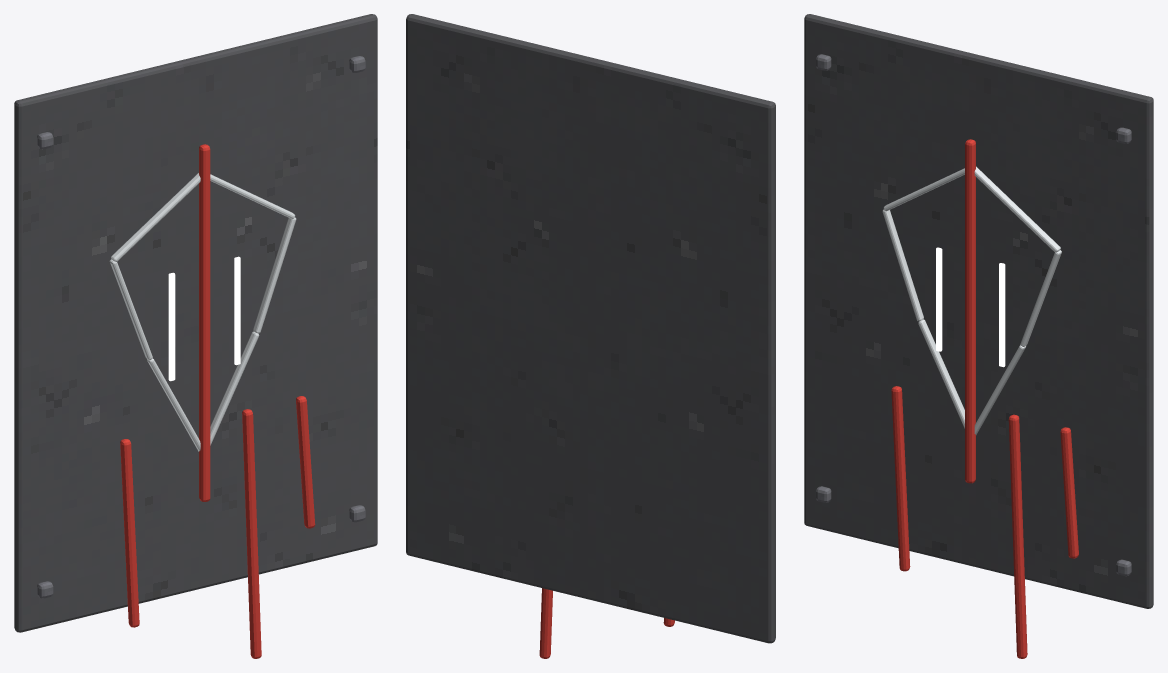
The model's file is cult_etched_panel.glb.
The picture shows the model from 3 angles, left to right: view 1: azimuth 30°, elevation 25°; view 2: azimuth 150°, elevation 25°; view 3: azimuth 330°, elevation 25°; orthographic projection. The views are drawn at different scales.
Visible parts, largest first — view 1: CULT_ETCHED_PANEL__Scored_Cladding, CULT_ETCHED_PANEL__Etched_Sigil_Axis, CULT_ETCHED_PANEL__Red_Seep_1, CULT_ETCHED_PANEL__Red_Seep_0, CULT_ETCHED_PANEL__Red_Seep_2, CULT_ETCHED_PANEL__Etched_Sigil_Cut_2, CULT_ETCHED_PANEL__Etched_Sigil_Cut_0, CULT_ETCHED_PANEL__Etched_Sigil_Cut_3, CULT_ETCHED_PANEL__Etched_Sigil_Prong_0, CULT_ETCHED_PANEL__Etched_Sigil_Cut_5, CULT_ETCHED_PANEL__Etched_Sigil_Prong_1, CULT_ETCHED_PANEL__Etched_Sigil_Cut_4 (+1 smaller); view 2: CULT_ETCHED_PANEL__Scored_Cladding, CULT_ETCHED_PANEL__Red_Seep_1; view 3: CULT_ETCHED_PANEL__Scored_Cladding, CULT_ETCHED_PANEL__Etched_Sigil_Axis, CULT_ETCHED_PANEL__Red_Seep_1, CULT_ETCHED_PANEL__Red_Seep_0, CULT_ETCHED_PANEL__Red_Seep_2, CULT_ETCHED_PANEL__Etched_Sigil_Cut_1, CULT_ETCHED_PANEL__Etched_Sigil_Cut_5, CULT_ETCHED_PANEL__Etched_Sigil_Cut_4, CULT_ETCHED_PANEL__Etched_Sigil_Cut_2, CULT_ETCHED_PANEL__Etched_Sigil_Prong_0, CULT_ETCHED_PANEL__Etched_Sigil_Prong_1, CULT_ETCHED_PANEL__Etched_Sigil_Cut_3 (+1 smaller).
Boxes of the visible parts, x1,y1,x2,y2 form: CULT_ETCHED_PANEL__Scored_Cladding: [14, 14, 377, 632]; CULT_ETCHED_PANEL__Etched_Sigil_Axis: [199, 144, 210, 501]; CULT_ETCHED_PANEL__Red_Seep_1: [242, 409, 261, 658]; CULT_ETCHED_PANEL__Red_Seep_0: [120, 439, 139, 627]; CULT_ETCHED_PANEL__Red_Seep_2: [296, 396, 315, 528]; CULT_ETCHED_PANEL__Etched_Sigil_Cut_2: [253, 217, 296, 333]; CULT_ETCHED_PANEL__Etched_Sigil_Cut_0: [111, 173, 200, 261]; CULT_ETCHED_PANEL__Etched_Sigil_Cut_3: [210, 331, 259, 445]; CULT_ETCHED_PANEL__Etched_Sigil_Prong_0: [168, 272, 175, 381]; CULT_ETCHED_PANEL__Etched_Sigil_Cut_5: [109, 259, 152, 359]; CULT_ETCHED_PANEL__Etched_Sigil_Prong_1: [234, 256, 240, 365]; CULT_ETCHED_PANEL__Etched_Sigil_Cut_4: [147, 358, 200, 451]; CULT_ETCHED_PANEL__Scored_Cladding: [406, 14, 775, 643]; CULT_ETCHED_PANEL__Red_Seep_1: [539, 588, 552, 658]; CULT_ETCHED_PANEL__Scored_Cladding: [804, 14, 1153, 608]; CULT_ETCHED_PANEL__Etched_Sigil_Axis: [965, 139, 975, 483]; CULT_ETCHED_PANEL__Red_Seep_1: [1008, 414, 1027, 658]; CULT_ETCHED_PANEL__Red_Seep_0: [891, 386, 910, 571]; CULT_ETCHED_PANEL__Red_Seep_2: [1060, 427, 1078, 558]; CULT_ETCHED_PANEL__Etched_Sigil_Cut_1: [974, 166, 1060, 252]; CULT_ETCHED_PANEL__Etched_Sigil_Cut_5: [882, 209, 923, 321]; CULT_ETCHED_PANEL__Etched_Sigil_Cut_4: [918, 319, 964, 428]; CULT_ETCHED_PANEL__Etched_Sigil_Cut_2: [1020, 250, 1061, 346]; CULT_ETCHED_PANEL__Etched_Sigil_Prong_0: [936, 247, 942, 351]; CULT_ETCHED_PANEL__Etched_Sigil_Prong_1: [999, 263, 1005, 367]; CULT_ETCHED_PANEL__Etched_Sigil_Cut_3: [974, 345, 1026, 435].
Size of the model in its own units: 0.74 by 1.19 by 0.0502.
Materials: 5 (2 with a texture image).
